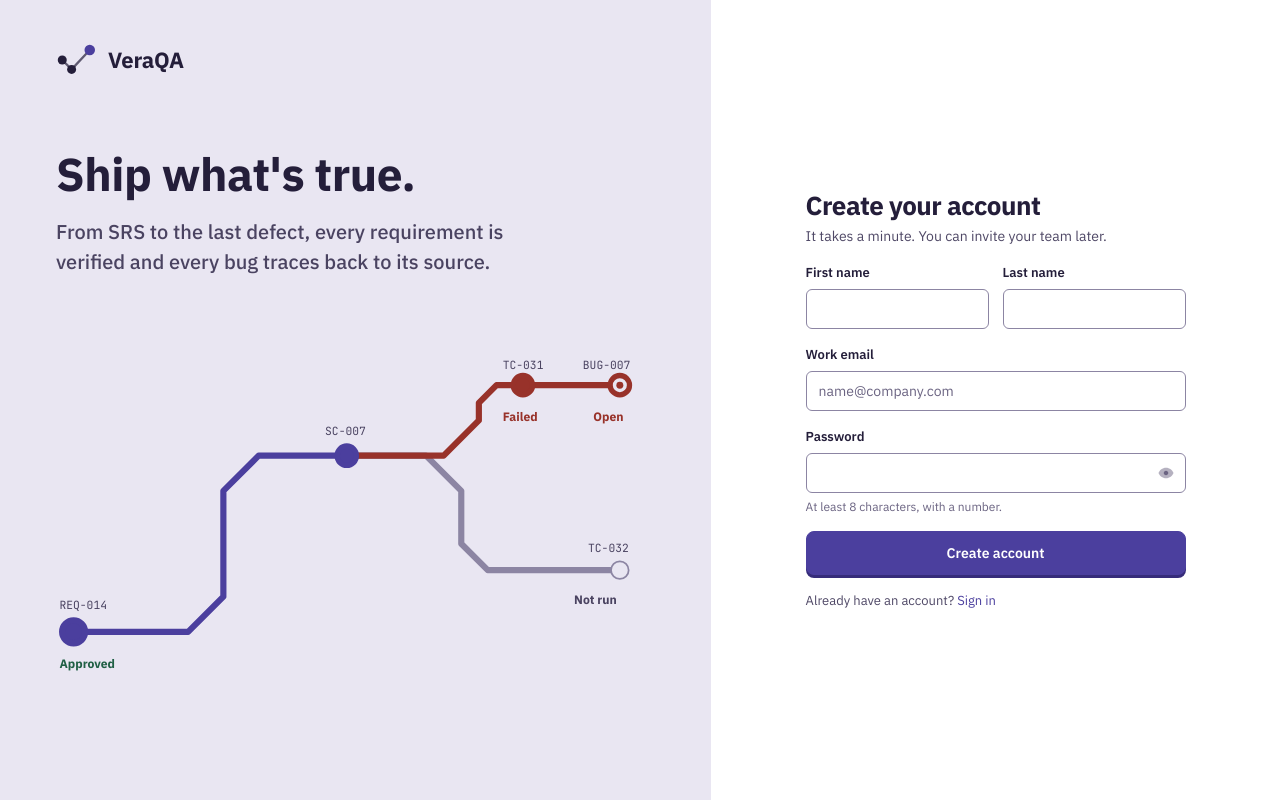
Test case: Register › puts the server’s answer on the email field when the email is taken
In the field labelled "First name": (897, 309) [806,289,988,329], type "Sami"
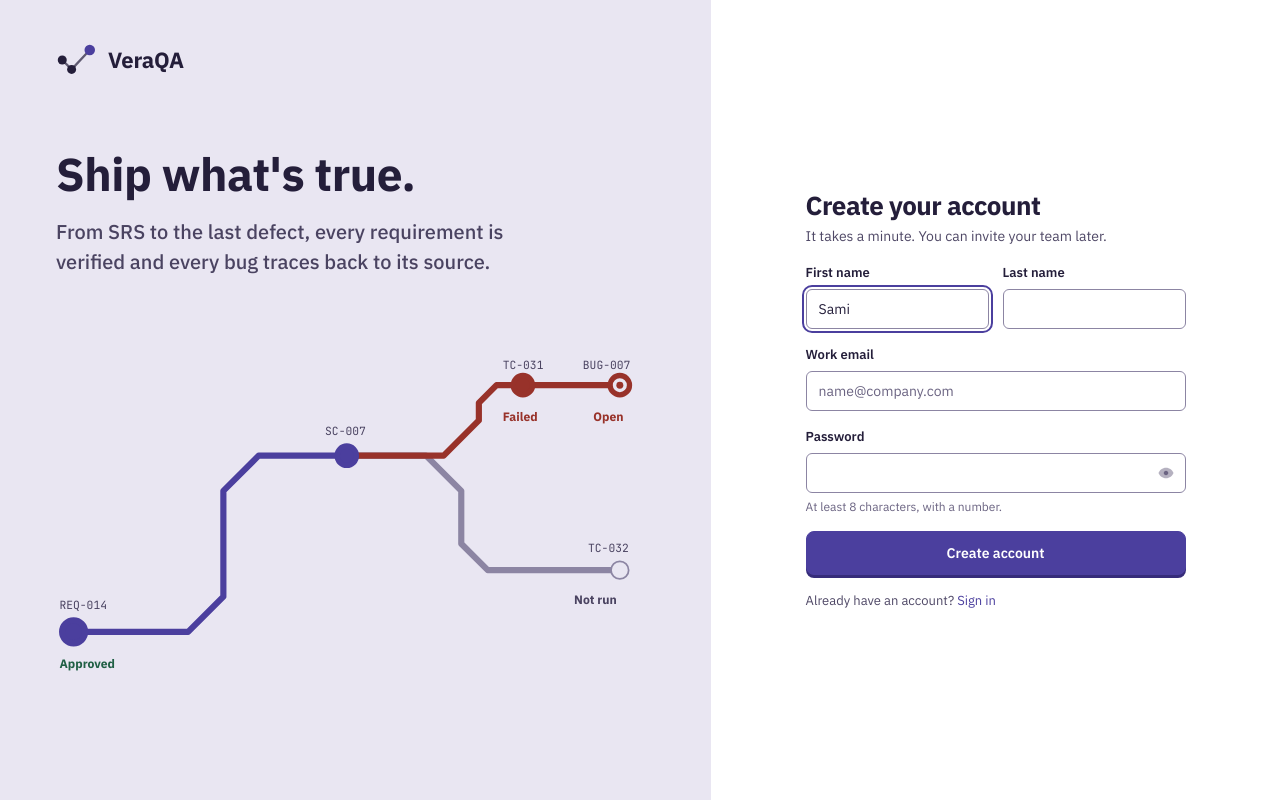
In the field labelled "Last name": (1094, 309) [1002,289,1186,329], type "Nour"
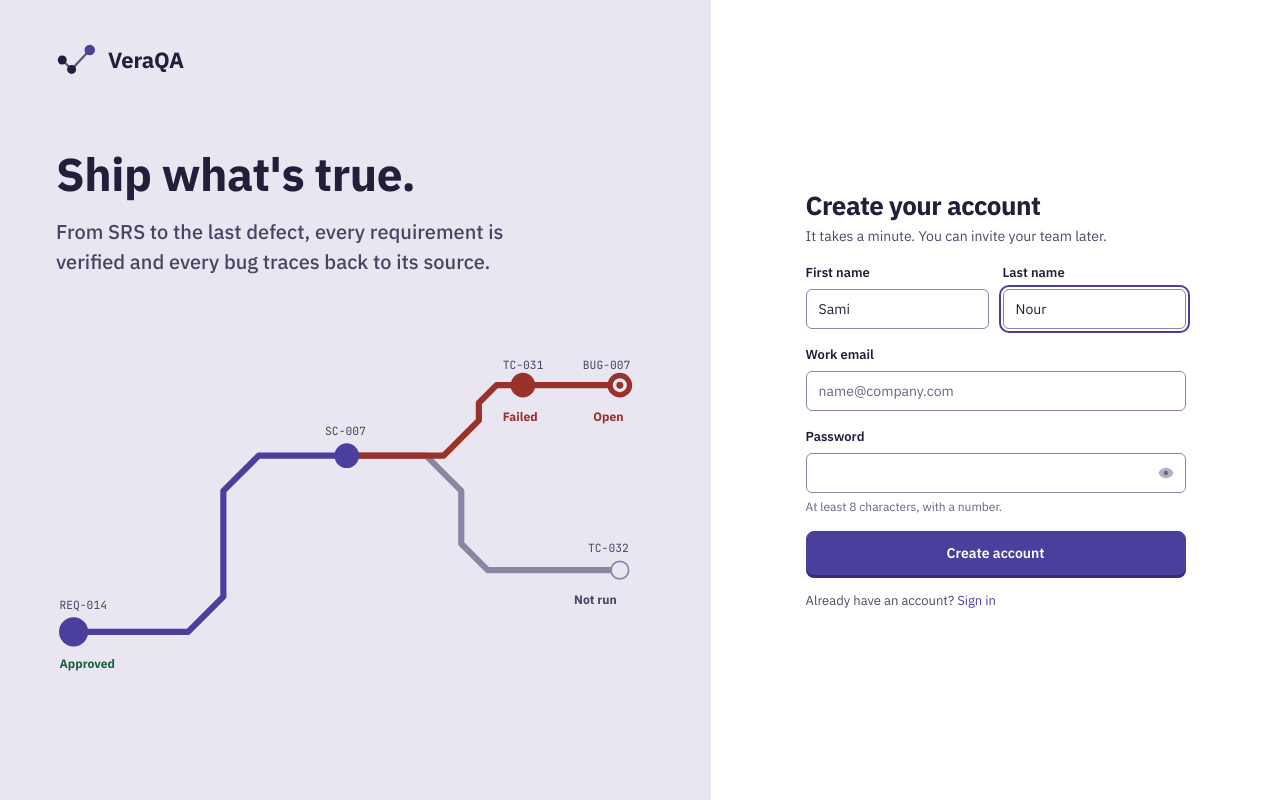
In the field labelled "Work email": (996, 391) [806,371,1186,411], type "lina.saeed@shop-team.com"
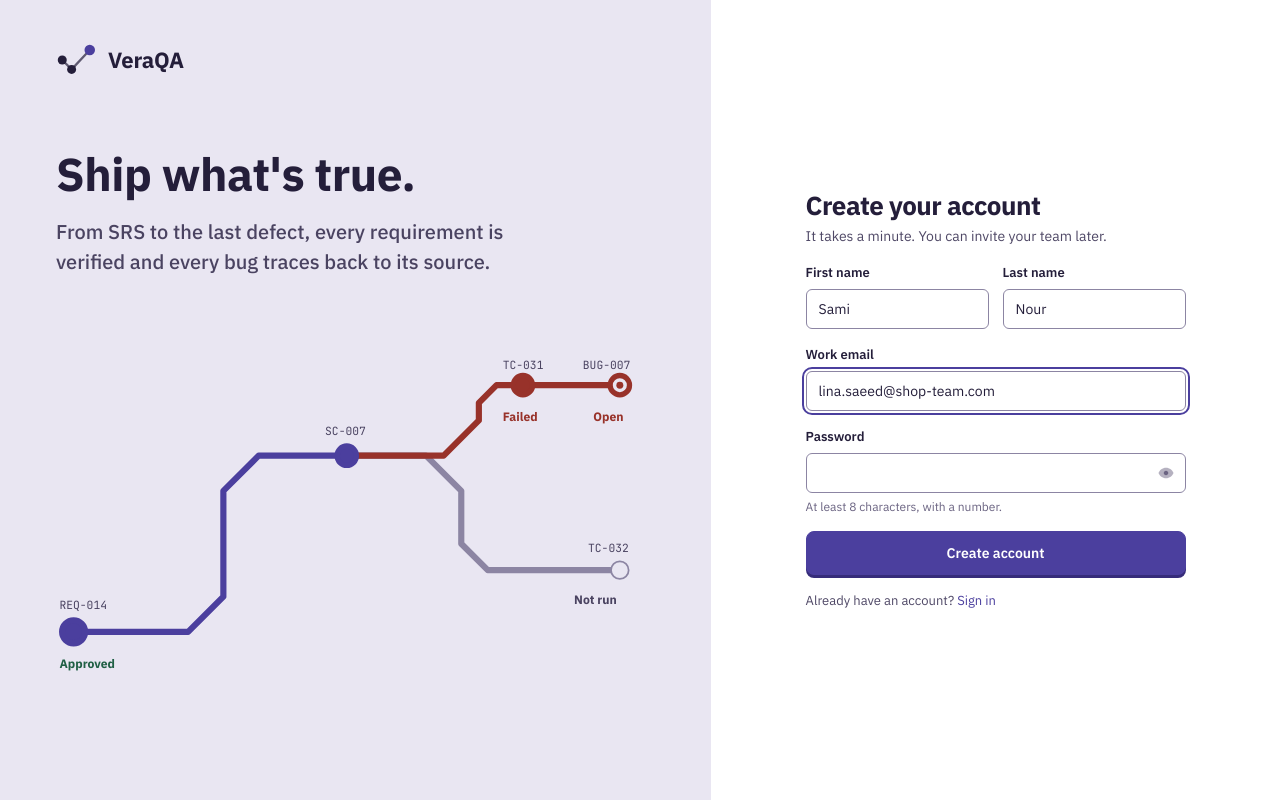
In the password field labelled "Password": (996, 473) [806,453,1186,493], type "Correct#456"
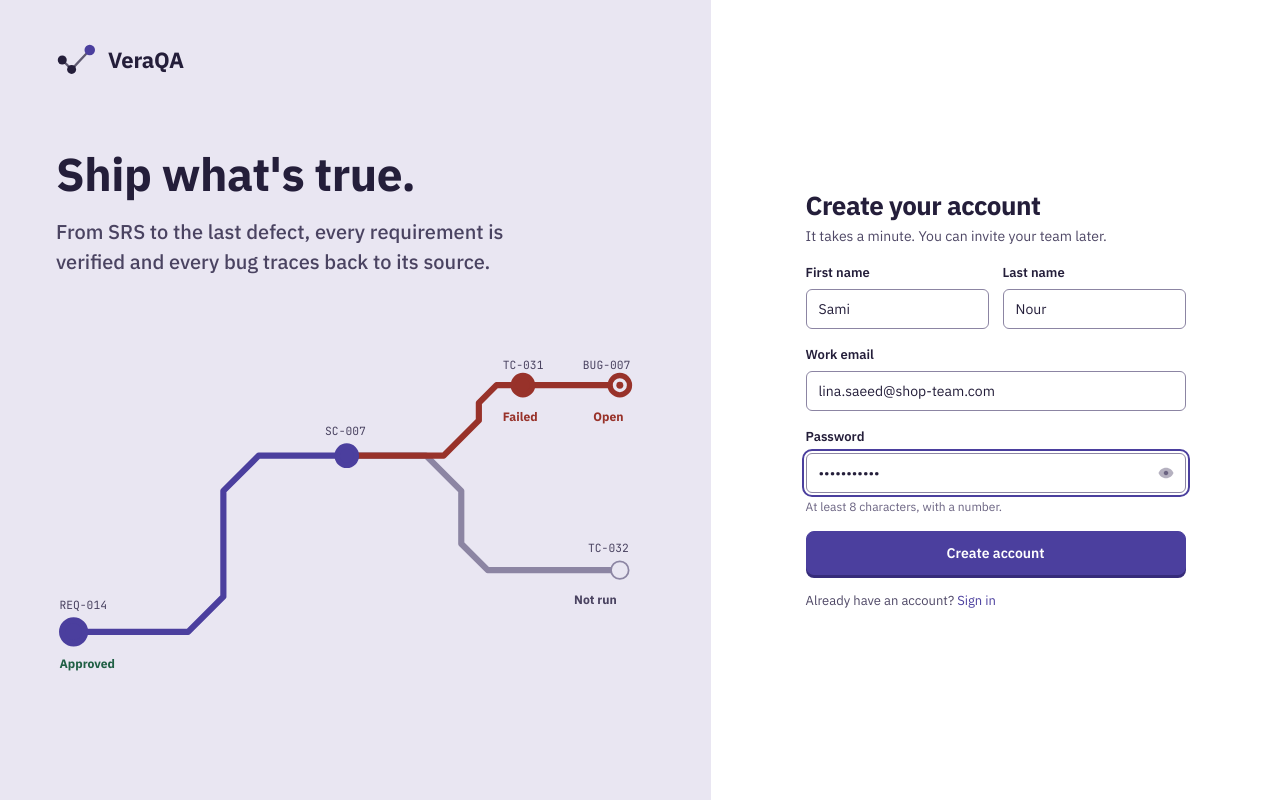
Click the button "Create account": (996, 553) [806,531,1186,575]
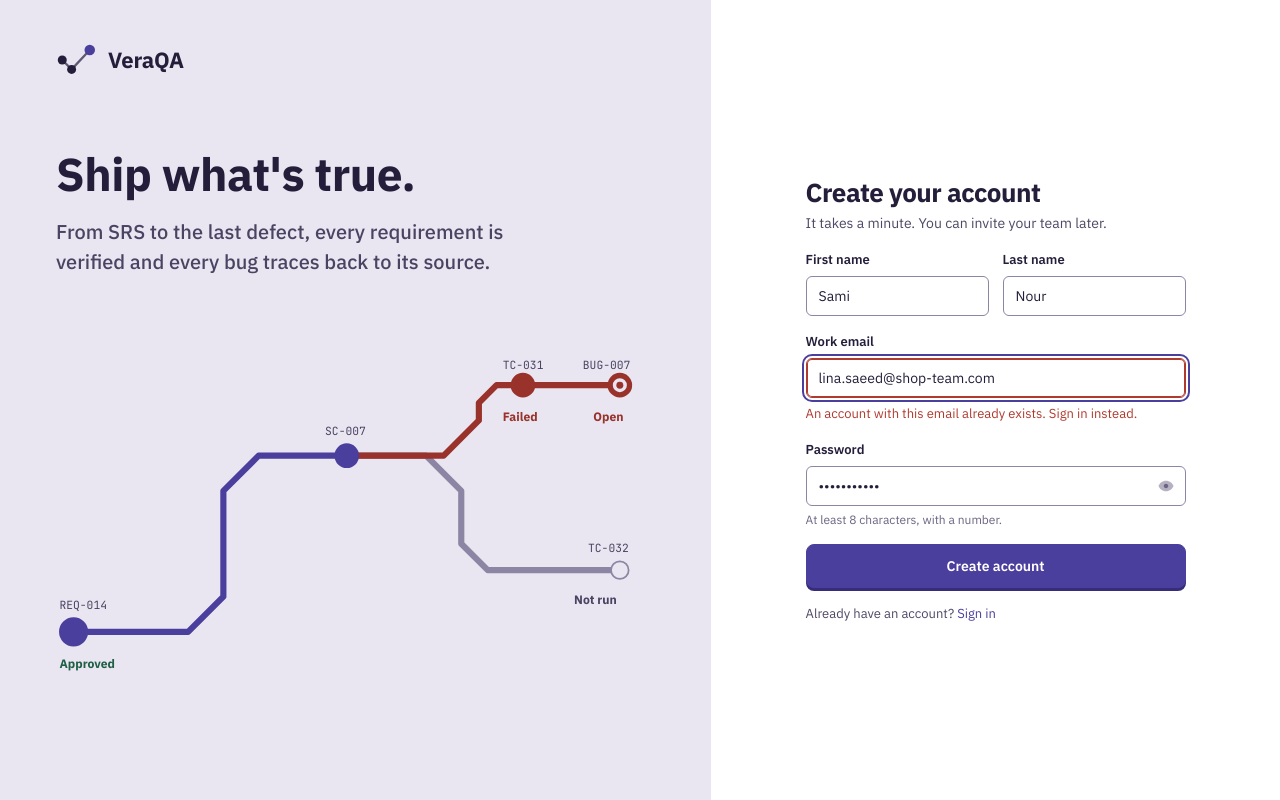
expect the text "An account with this email already exists. Sign in instead." is shown: met, box [806,404,1186,424]
